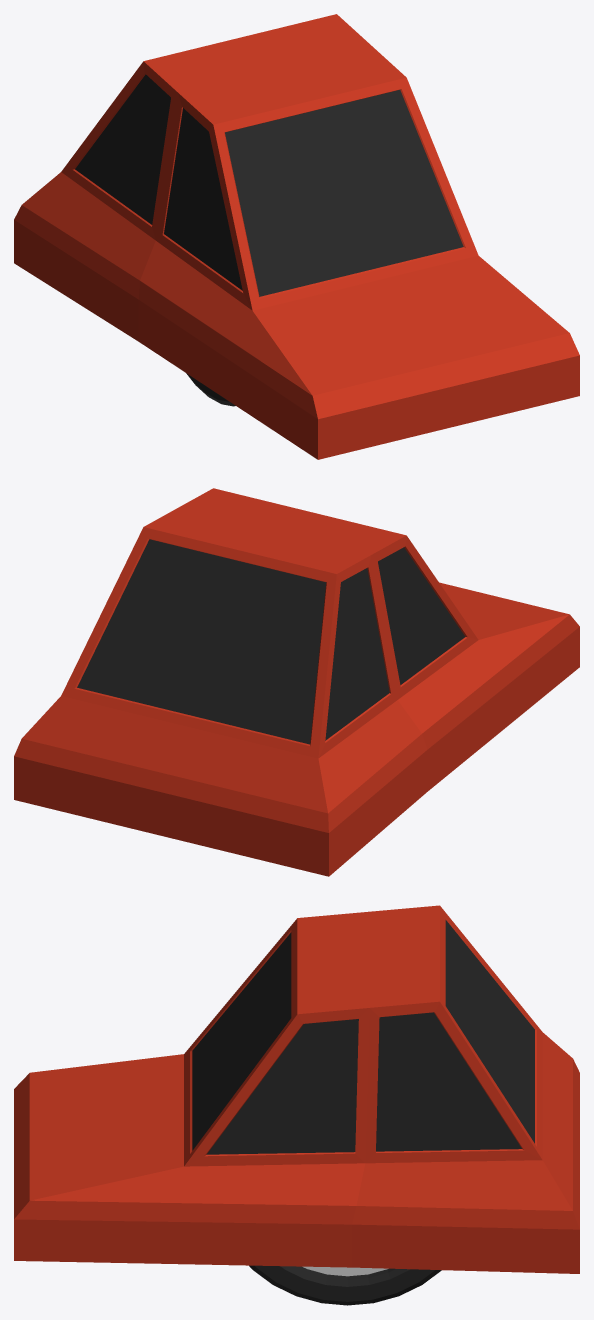
The model's file is car_orange.glb.
3 views of the same model, one above another, from view 1: azimuth 30°, elevation 25°; view 2: azimuth 150°, elevation 25°; view 3: azimuth 270°, elevation 25° (orthographic).
Visible parts, largest first — view 1: Cube; view 2: Cube; view 3: Cube, Cylinder.
Part boxes in pixels (x1,y1,x2,y2): Cube: (14,14,579,459); Cube: (14,488,579,876); Cube: (14,905,579,1273); Cylinder: (249,1265,441,1305).
Size of the model in its own units: 1.67 by 1.56 by 2.55.
